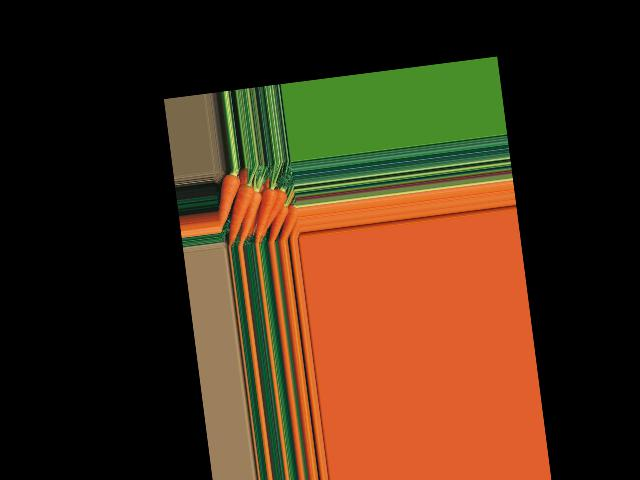carrot: (266, 200, 294, 240)
